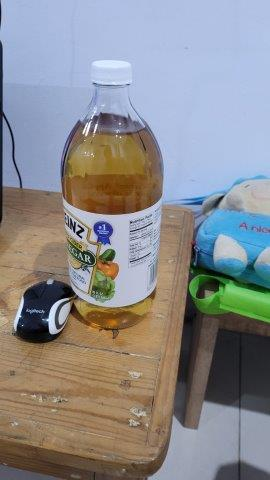botolplastik: (59, 59, 159, 332)
